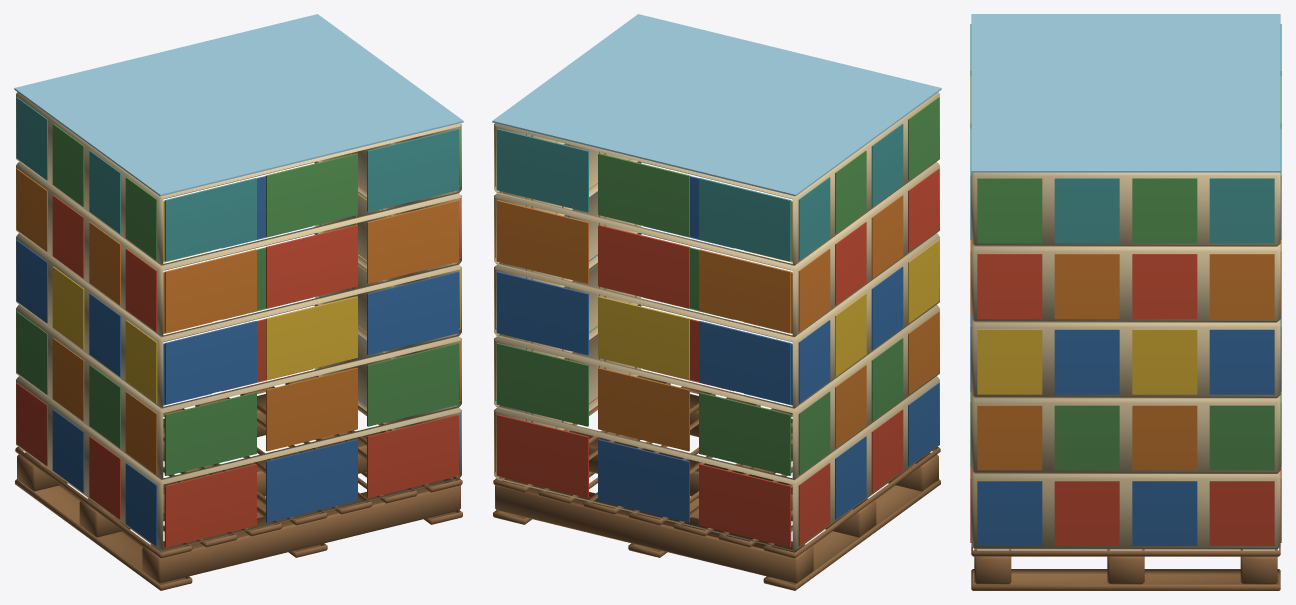
Rendered from PalletLoad_Cases_01.glb.
3 views of the same model, side by side, from view 1: azimuth 30°, elevation 25°; view 2: azimuth 150°, elevation 25°; view 3: azimuth 270°, elevation 25° (orthographic). The views are drawn at different scales.
Visible parts, largest first — view 1: SM_PalletLoad_Cases_01; view 2: SM_PalletLoad_Cases_01; view 3: SM_PalletLoad_Cases_01.
Part boxes in pixels (x1,y1,x2,y2): SM_PalletLoad_Cases_01: [14, 14, 463, 590]; SM_PalletLoad_Cases_01: [492, 14, 941, 590]; SM_PalletLoad_Cases_01: [970, 14, 1281, 590].
Size of the model in its own units: 1.21 by 1.5 by 1.01.
Materials: 1 (1 with a texture image).
